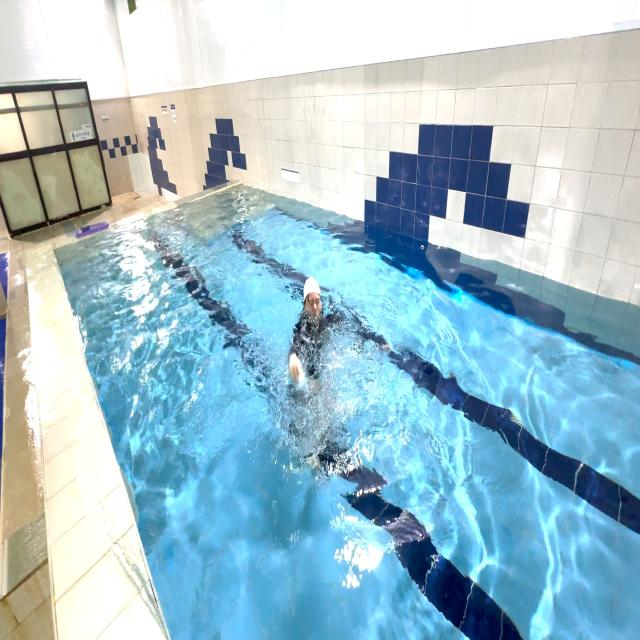Drowning: (288, 272, 395, 453)
